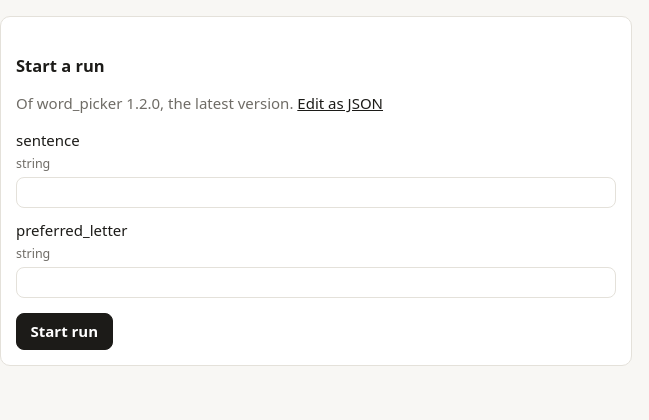
Test: StartRunForm › shows the manager's refusal next to the form
Click the button "Start run": (64, 332) [16,313,113,350]
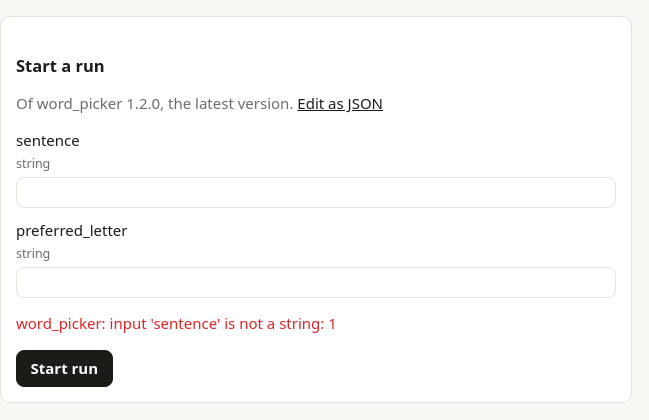
expect the message shows "input 'sentence' is not a string": met, box [16,313,337,333]
